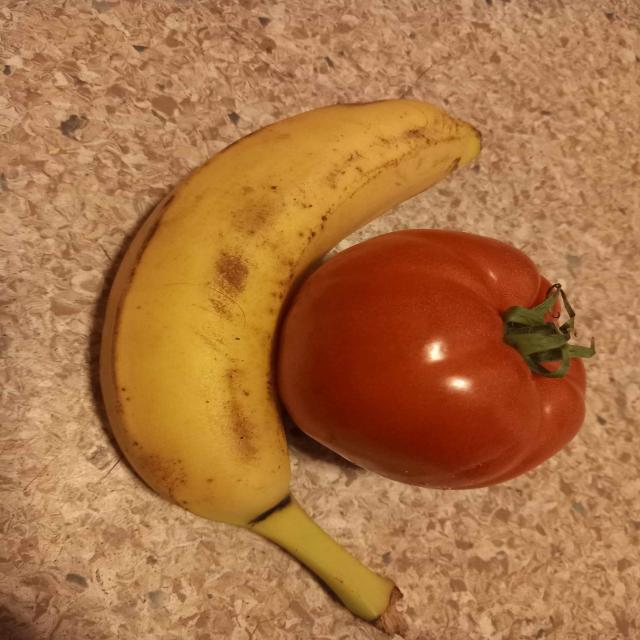banana: (100, 100, 480, 621)
tomato: (278, 230, 593, 489)
